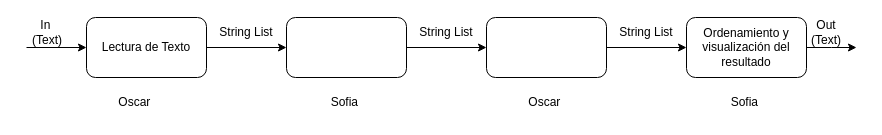
Image size: 882x135. Some labels were removed from this diagram. Each missing label, with the centre of its shape:
"Extracción del Contexto" belongs at [546,47].
"Identificación de palabras clave" belongs at [346,47].
